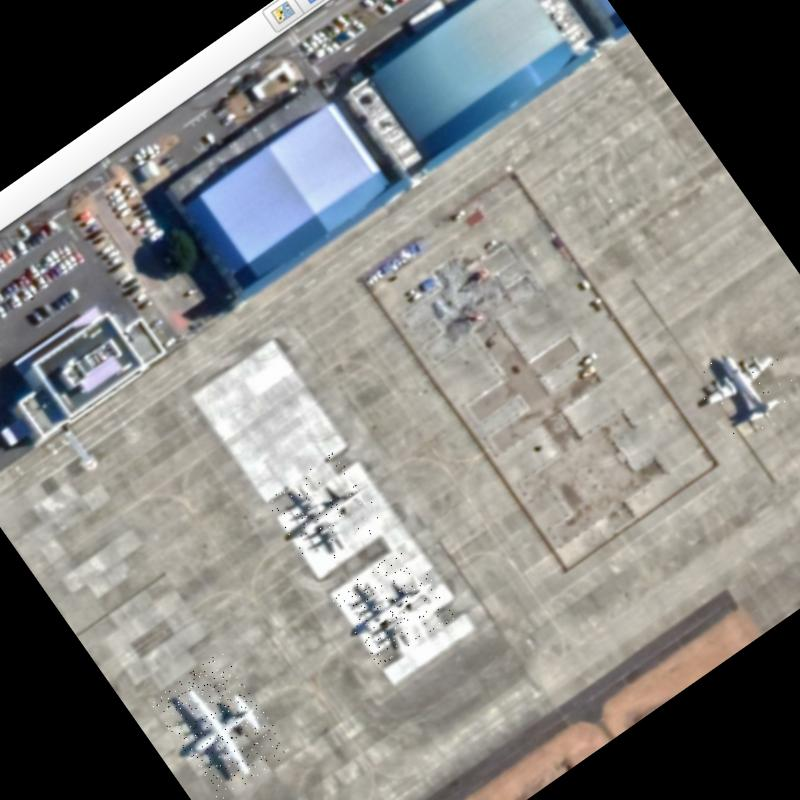A2: (149, 651, 292, 800)
A9: (330, 544, 458, 670), (264, 450, 388, 574), (681, 325, 800, 451)
